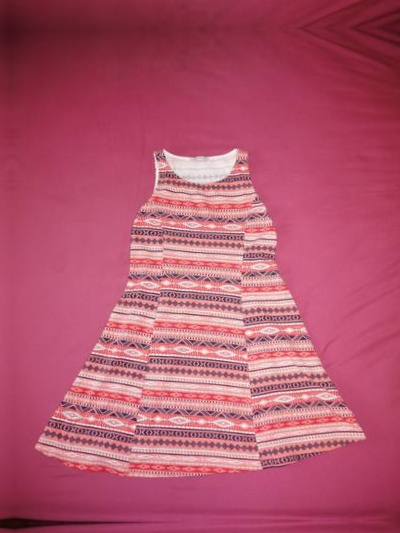Dress: (29, 131, 378, 490)
